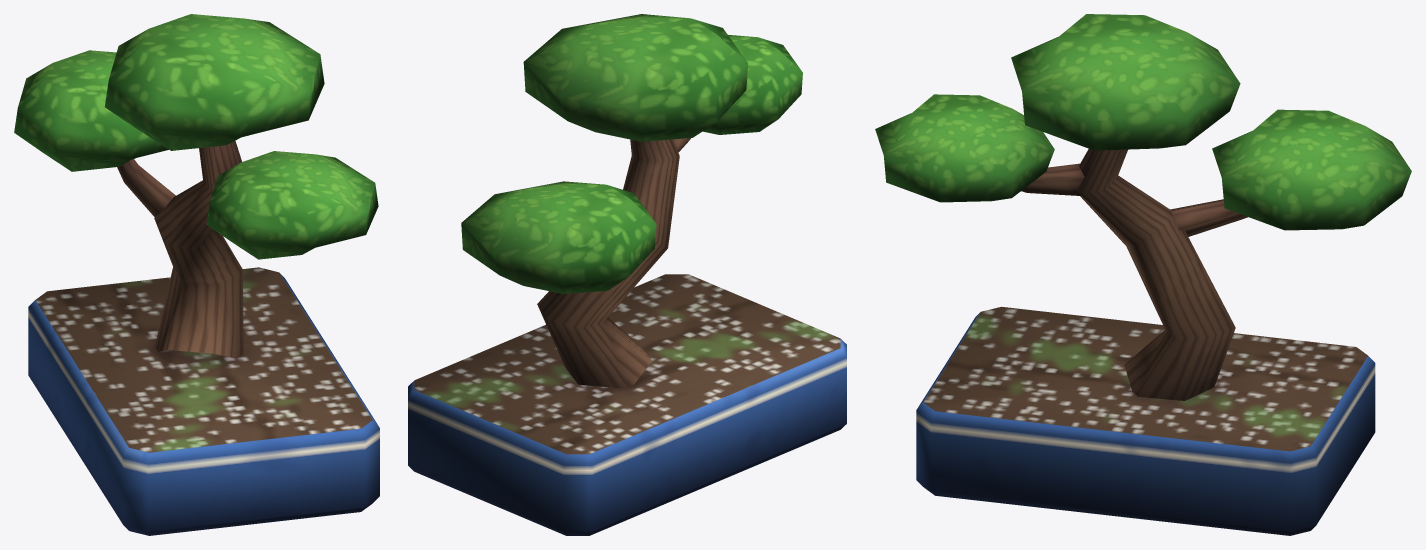
File: bonsai.obj
3 renders of one model, left to right at view 1: azimuth 30°, elevation 25°; view 2: azimuth 150°, elevation 25°; view 3: azimuth 270°, elevation 25°, orthographic. The views are drawn at different scales.
Visible parts, largest first — view 1: Bonsai; view 2: Bonsai; view 3: Bonsai.
Boxes of the visible parts, x1,y1,x2,y2 form: Bonsai: (14, 14, 379, 535); Bonsai: (408, 14, 846, 535); Bonsai: (875, 14, 1411, 535).
Bounding box in the file's own units: 0.3443 × 0.447 × 0.5182.
Materials: 1 (1 with a texture image).
